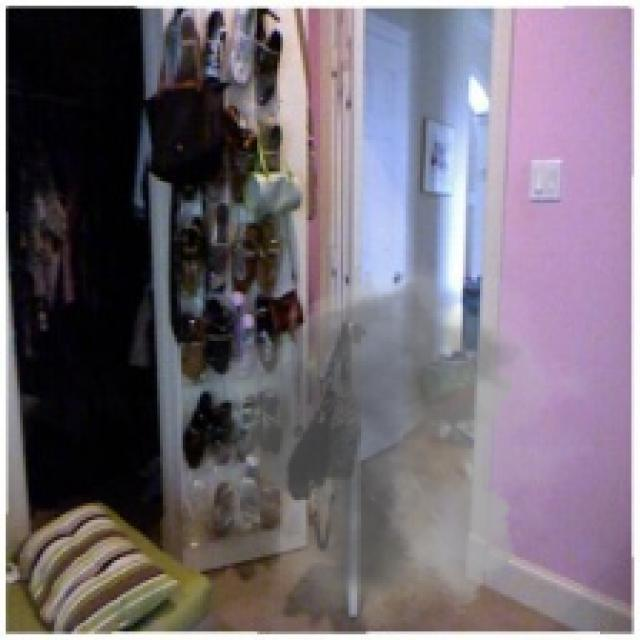Smoke: (182, 252, 598, 628)
